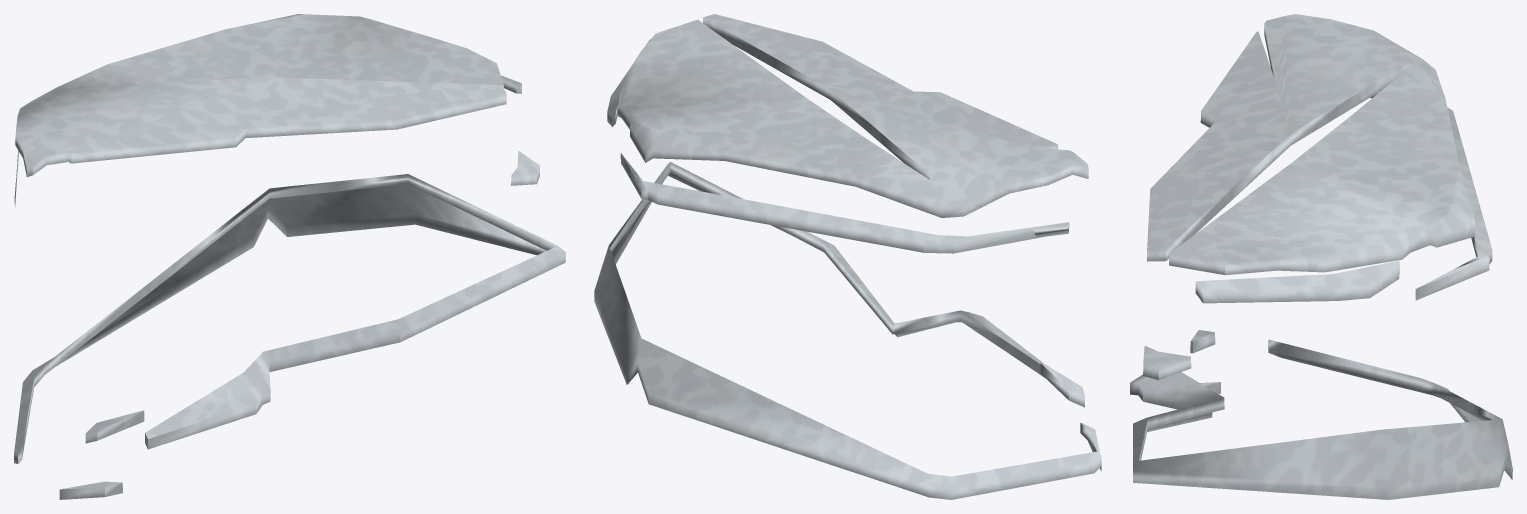
The model's file is Cliff_10_Snow.fbx.
The picture shows the model from 3 angles, left to right: view 1: azimuth 30°, elevation 25°; view 2: azimuth 150°, elevation 25°; view 3: azimuth 270°, elevation 25°; orthographic projection. The views are drawn at different scales.
Visible parts, largest first — view 1: Cliff_10_Snow; view 2: Cliff_10_Snow; view 3: Cliff_10_Snow.
Part boxes in pixels (<box>): Cliff_10_Snow: <box>14,14,565,499</box>; Cliff_10_Snow: <box>594,14,1101,499</box>; Cliff_10_Snow: <box>1130,14,1512,499</box>.
Bounding box in the file's own units: 4003 × 2678 × 2362.
